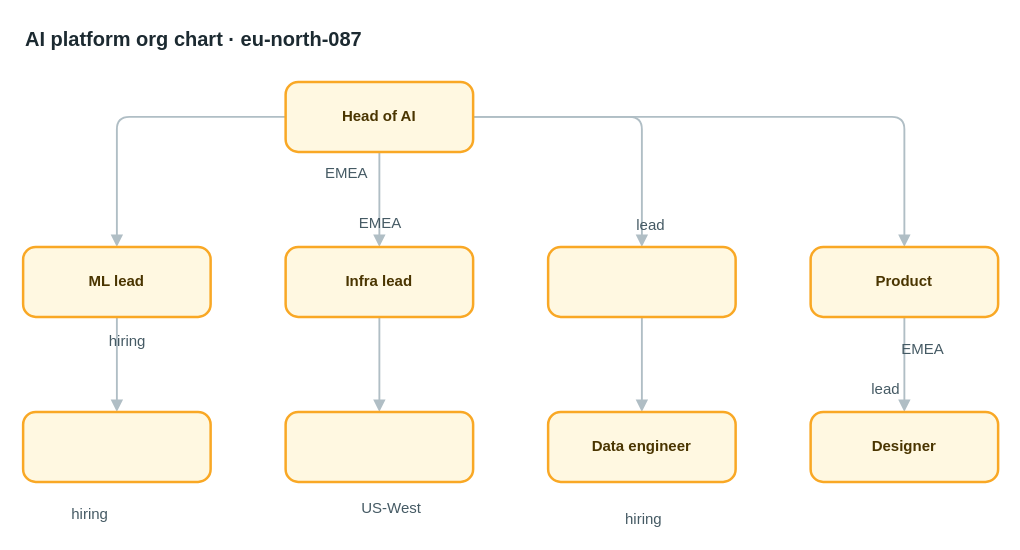
This 1020x550 diagram has some shape labels left out. Here are the shapes that lost their labels. From the top down, the centre of each, then its label:
At [641,281]: "Data lead".
At [116,446]: "Researcher".
At [379,446]: "SRE".
